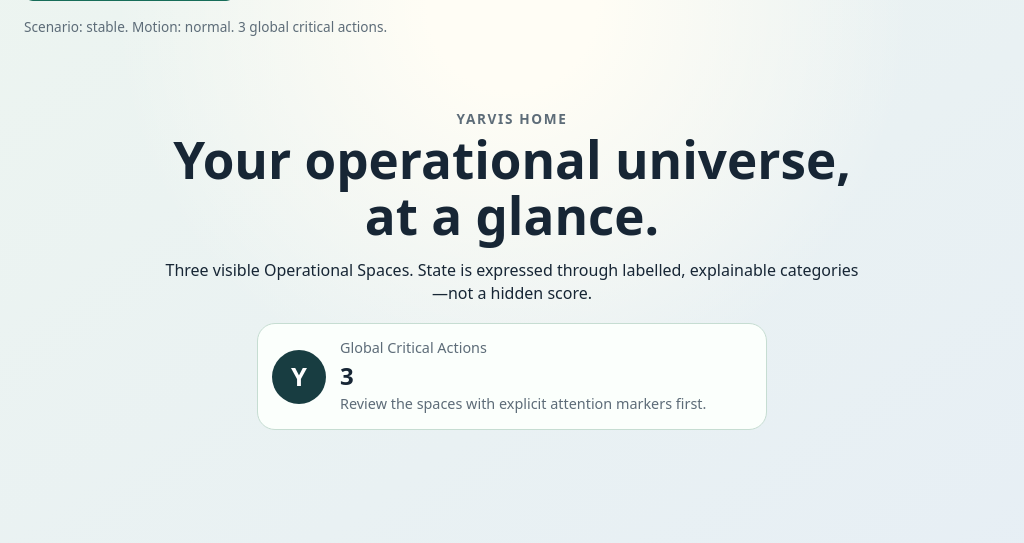
Test: YarvisExperiencePrototype › supports keyboard navigation through Space, Area, Workspace and Back
(page scrolled)
Step 1. Press Enter
(page scrolled)
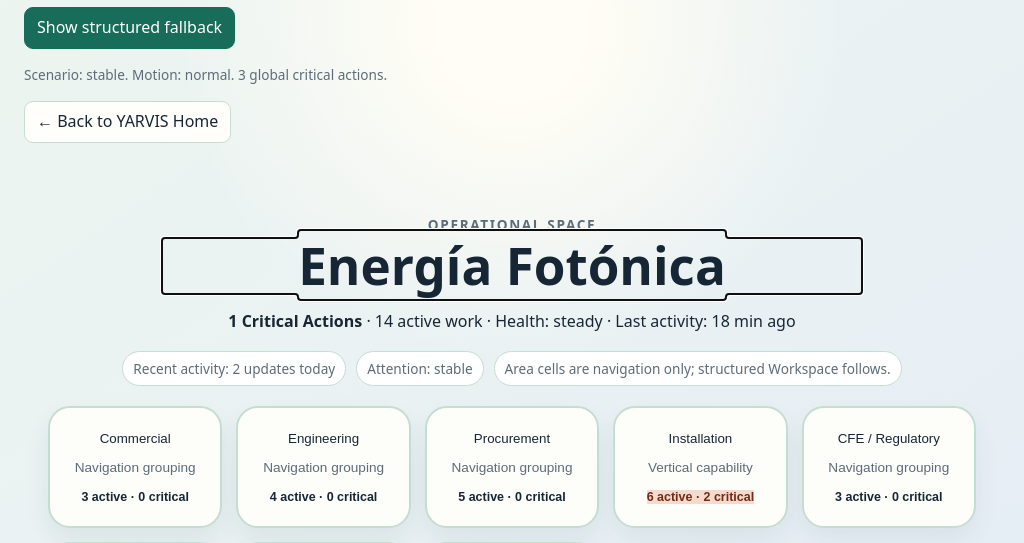
Now the heading "Energía Fotónica" is shown, box [298,230,726,300]
Step 2. Click the button "Engineering Navigation grouping 4 active · 0 critical" → [324, 468], box [236,406,411,528]
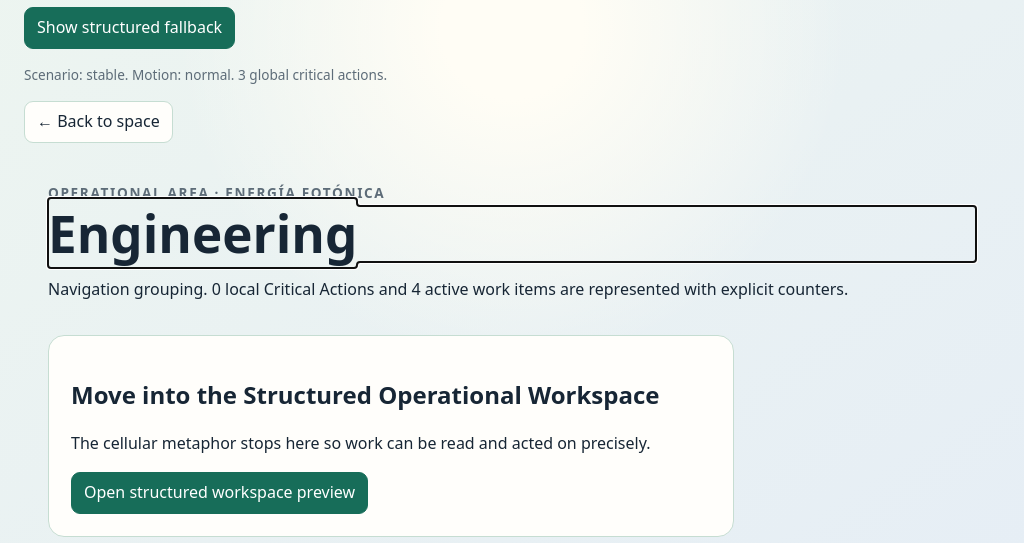
Now the heading "Engineering" is shown, box [48,198,357,268]
Step 3. Click the button "Open structured workspace preview" → [220, 493], box [71,472,368,514]
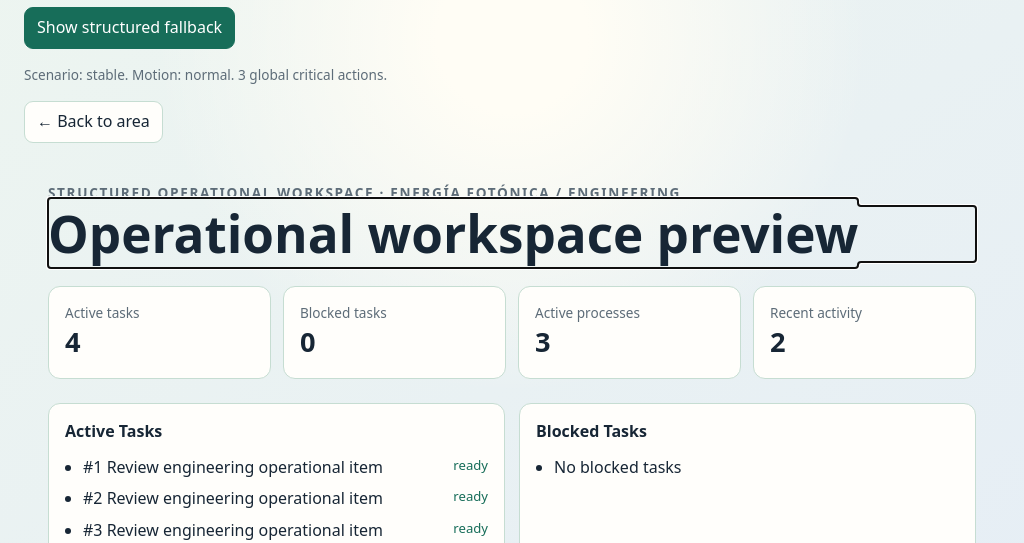
Now the heading "Operational workspace preview" is shown, box [48,206,976,262]
Step 4. Press Escape
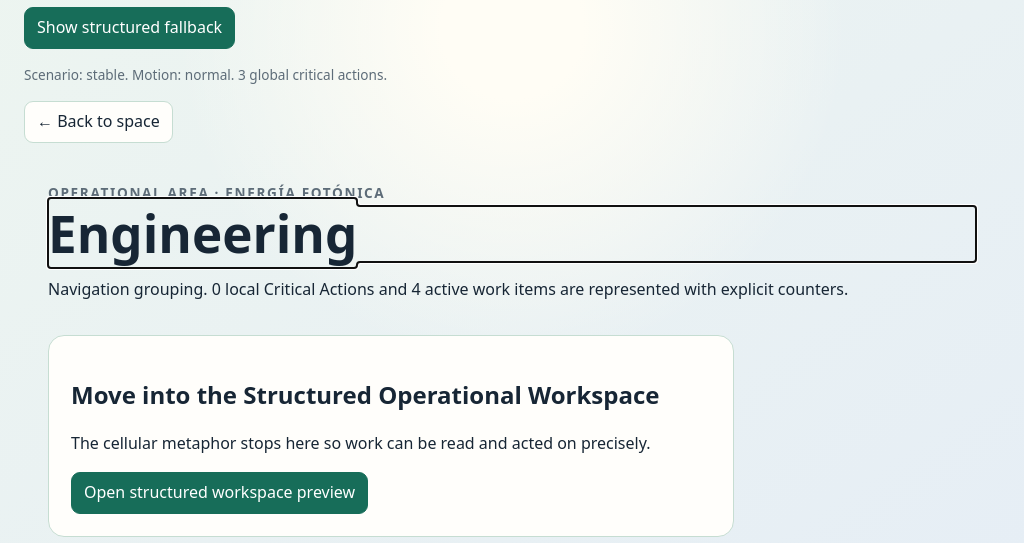
Now the heading "Engineering" is shown, box [48,198,357,268]
Step 5. Press Escape
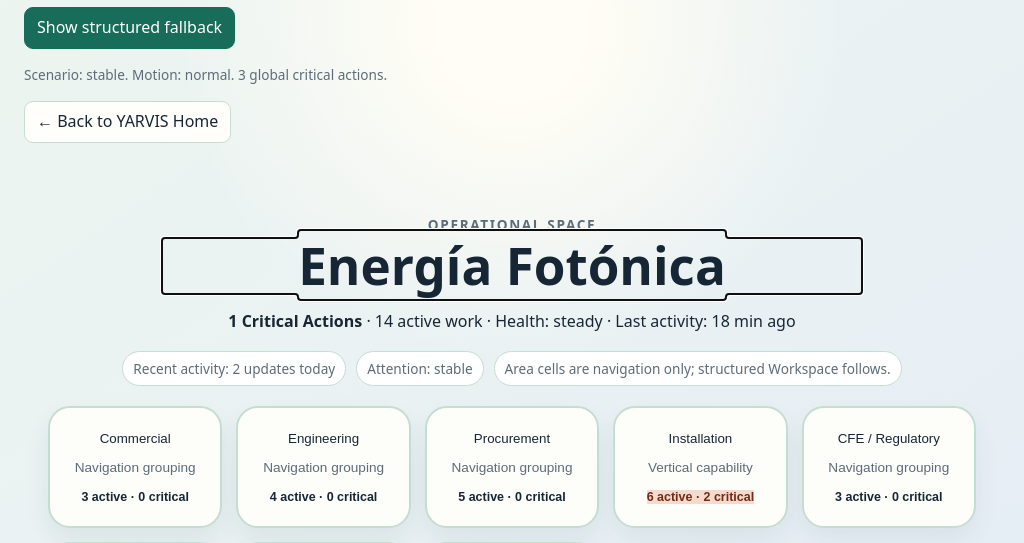
Now the heading "Energía Fotónica" is shown, box [298,230,726,300]
Step 6. Press Escape
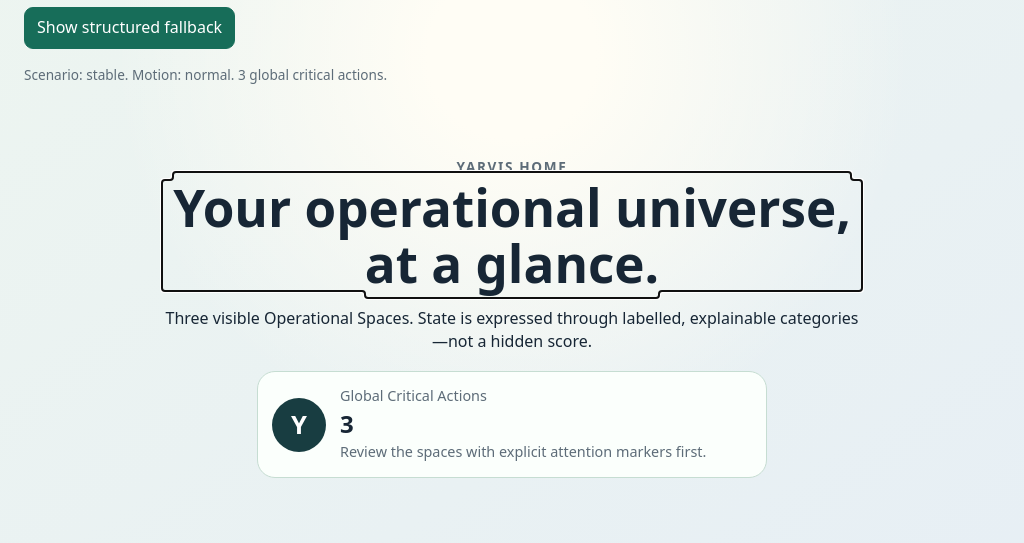
Now the heading "Your operational universe, at a glance." is shown, box [162,180,862,291]
